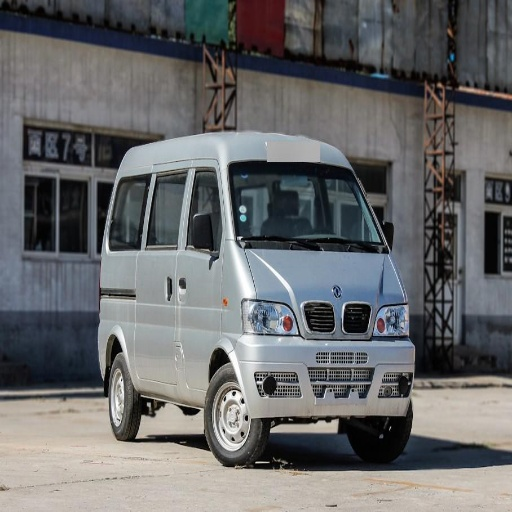front_bumper: (236, 304, 413, 413)
front_glass: (231, 164, 384, 252)
front_right_door: (163, 164, 225, 385)
front_right_light: (243, 299, 296, 335)
hood: (247, 250, 409, 335)
trunk: (97, 295, 139, 363)
